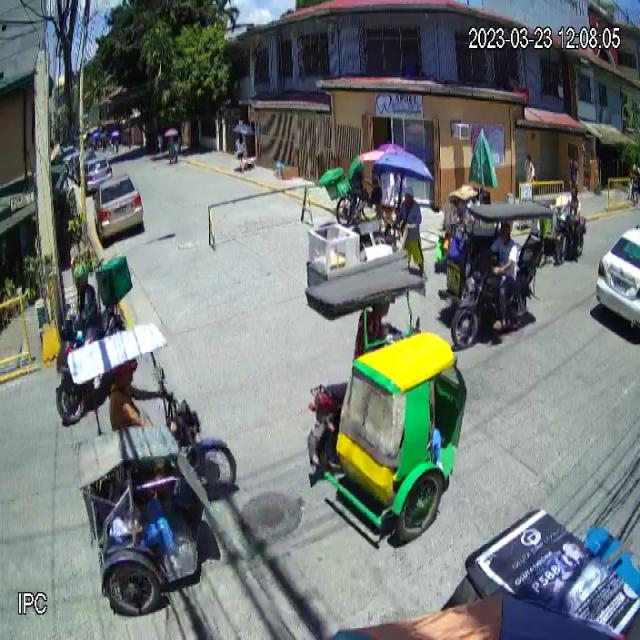Car: (92, 174, 144, 243)
Tricycle: (66, 318, 240, 618), (305, 264, 471, 538), (444, 202, 544, 350)
